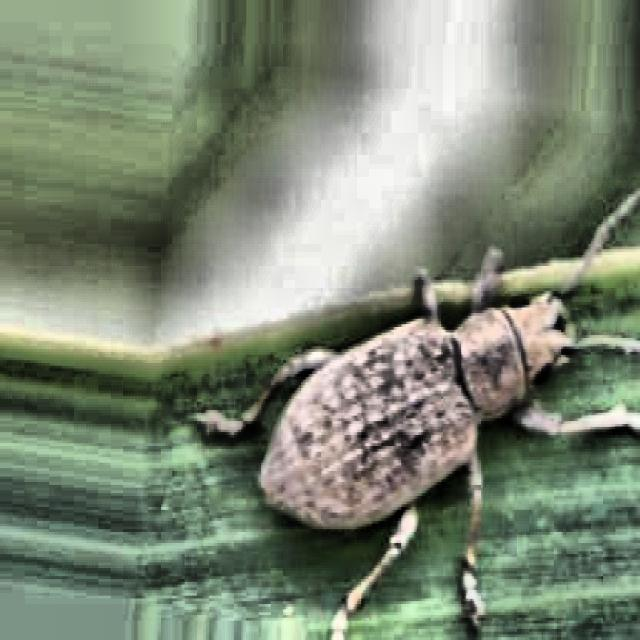Stink bug: (212, 122, 640, 640)
